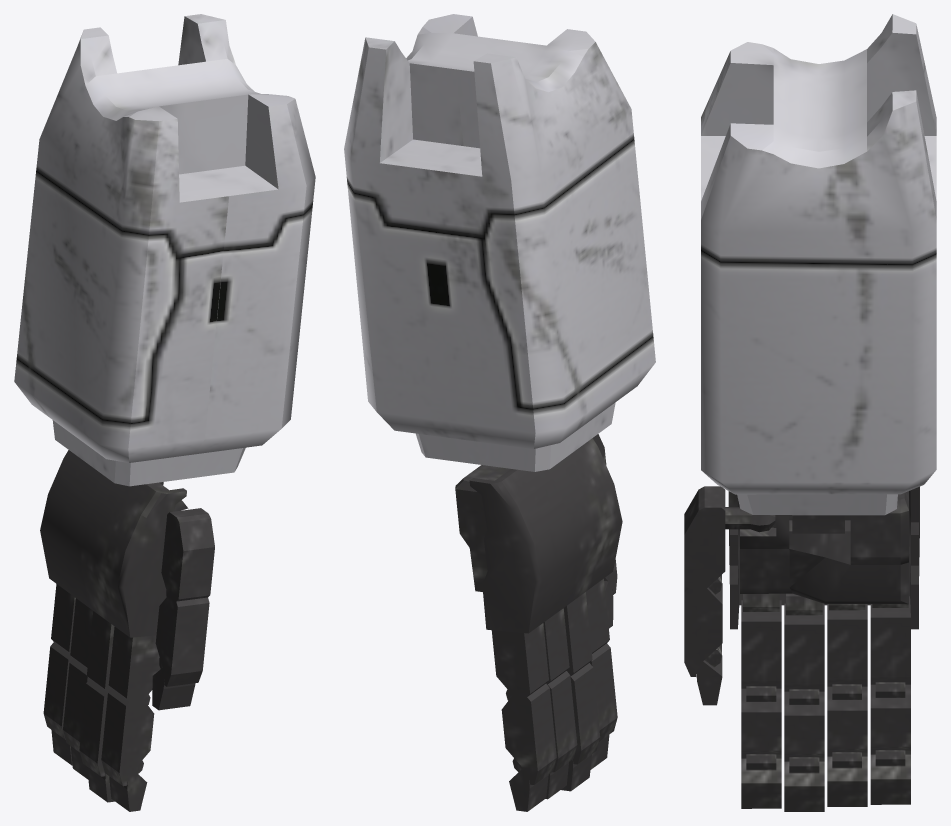
Rendered from hand1.obj.
The picture shows the model from 3 angles, left to right: view 1: azimuth 30°, elevation 25°; view 2: azimuth 150°, elevation 25°; view 3: azimuth 270°, elevation 25°; orthographic projection. The views are drawn at different scales.
Parts seen in each view (by area): view 1: uploads_files_730998_Gundam:polySurface666 polySurface19, uploads_files_730998_Gundam:polySurface666 polySurface88, uploads_files_730998_Gundam:polySurface666 polySurface91, uploads_files_730998_Gundam:polySurface666 polySurface98, uploads_files_730998_Gundam:polySurface666 polySurface104, uploads_files_730998_Gundam:polySurface666 polySurface100, uploads_files_730998_Gundam:polySurface666 polySurface99; view 2: uploads_files_730998_Gundam:polySurface666 polySurface19, uploads_files_730998_Gundam:polySurface666 polySurface88, uploads_files_730998_Gundam:polySurface666 polySurface100, uploads_files_730998_Gundam:polySurface666 polySurface104, uploads_files_730998_Gundam:polySurface666 polySurface99, uploads_files_730998_Gundam:polySurface666 polySurface98, uploads_files_730998_Gundam:polySurface666 polySurface90, uploads_files_730998_Gundam:polySurface666 polySurface91; view 3: uploads_files_730998_Gundam:polySurface666 polySurface19, uploads_files_730998_Gundam:polySurface666 polySurface90, uploads_files_730998_Gundam:polySurface666 polySurface91, uploads_files_730998_Gundam:polySurface666 polySurface104, uploads_files_730998_Gundam:polySurface666 polySurface98, uploads_files_730998_Gundam:polySurface666 polySurface100, uploads_files_730998_Gundam:polySurface666 polySurface99, uploads_files_730998_Gundam:polySurface666 polySurface88, uploads_files_730998_Gundam:polySurface666 polySurface89, uploads_files_730998_Gundam:polySurface666 polySurface92, uploads_files_730998_Gundam:polySurface666 polySurface95, uploads_files_730998_Gundam:polySurface666 polySurface94 (+8 smaller).
Part boxes in pixels (left/top/right/bottom): uploads_files_730998_Gundam:polySurface666 polySurface19: left=14, top=14, right=315, bottom=486; uploads_files_730998_Gundam:polySurface666 polySurface88: left=40, top=450, right=186, bottom=637; uploads_files_730998_Gundam:polySurface666 polySurface91: left=152, top=508, right=214, bottom=710; uploads_files_730998_Gundam:polySurface666 polySurface98: left=101, top=627, right=160, bottom=811; uploads_files_730998_Gundam:polySurface666 polySurface104: left=79, top=611, right=114, bottom=802; uploads_files_730998_Gundam:polySurface666 polySurface100: left=43, top=584, right=75, bottom=765; uploads_files_730998_Gundam:polySurface666 polySurface99: left=63, top=598, right=93, bottom=779; uploads_files_730998_Gundam:polySurface666 polySurface19: left=344, top=14, right=655, bottom=471; uploads_files_730998_Gundam:polySurface666 polySurface88: left=469, top=438, right=622, bottom=633; uploads_files_730998_Gundam:polySurface666 polySurface100: left=491, top=623, right=556, bottom=811; uploads_files_730998_Gundam:polySurface666 polySurface104: left=561, top=592, right=600, bottom=791; uploads_files_730998_Gundam:polySurface666 polySurface99: left=543, top=608, right=577, bottom=799; uploads_files_730998_Gundam:polySurface666 polySurface98: left=586, top=578, right=617, bottom=769; uploads_files_730998_Gundam:polySurface666 polySurface90: left=455, top=465, right=510, bottom=591; uploads_files_730998_Gundam:polySurface666 polySurface91: left=593, top=434, right=617, bottom=628; uploads_files_730998_Gundam:polySurface666 polySurface19: left=701, top=14, right=936, bottom=515; uploads_files_730998_Gundam:polySurface666 polySurface90: left=740, top=491, right=908, bottom=603; uploads_files_730998_Gundam:polySurface666 polySurface91: left=684, top=486, right=725, bottom=705; uploads_files_730998_Gundam:polySurface666 polySurface104: left=784, top=603, right=824, bottom=811; uploads_files_730998_Gundam:polySurface666 polySurface98: left=741, top=600, right=781, bottom=808; uploads_files_730998_Gundam:polySurface666 polySurface100: left=870, top=596, right=910, bottom=804; uploads_files_730998_Gundam:polySurface666 polySurface99: left=827, top=604, right=867, bottom=806; uploads_files_730998_Gundam:polySurface666 polySurface88: left=728, top=486, right=919, bottom=629; uploads_files_730998_Gundam:polySurface666 polySurface89: left=792, top=515, right=844, bottom=533; uploads_files_730998_Gundam:polySurface666 polySurface92: left=725, top=507, right=775, bottom=532; uploads_files_730998_Gundam:polySurface666 polySurface95: left=786, top=593, right=822, bottom=615; uploads_files_730998_Gundam:polySurface666 polySurface94: left=743, top=593, right=779, bottom=611.
Bounding box in the file's own units: 2.14 × 6.9 × 1.96.
1 material, 1 textured.
